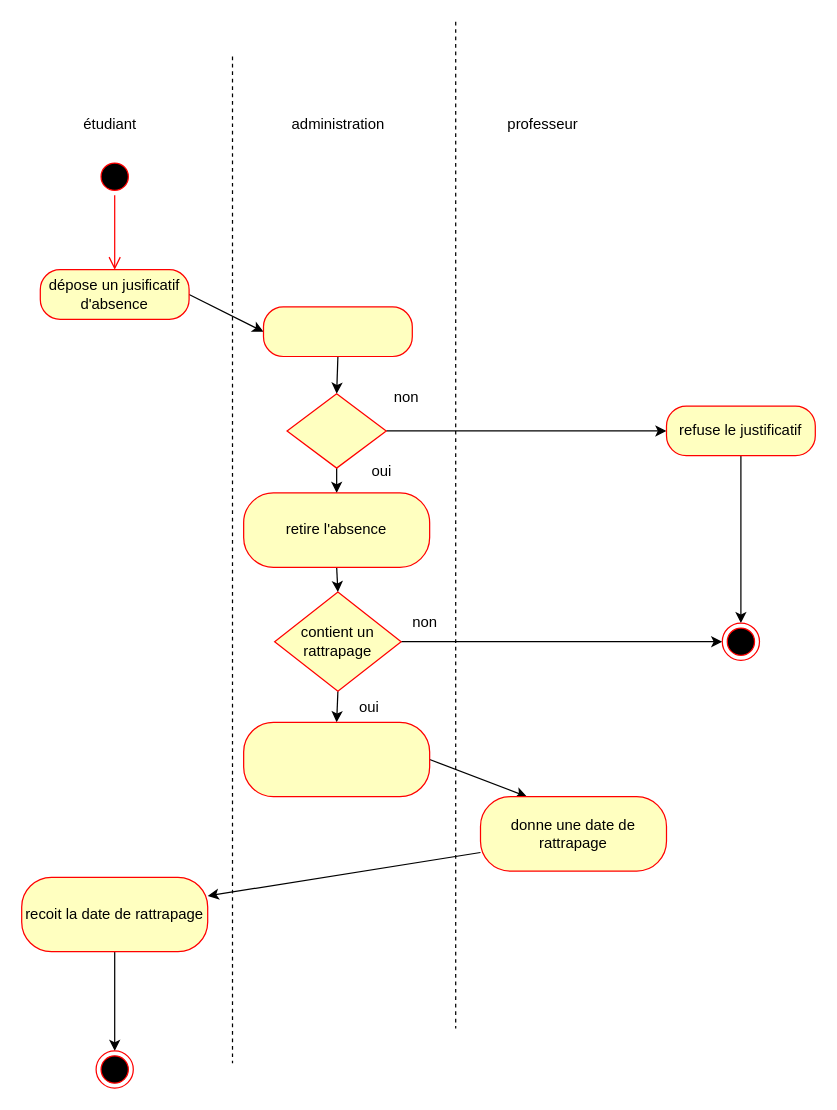
The diagram is 837 pixels wide and 1110 high, and some of its shapes have lost their labels. Here are the shapes that lost their labels. From the top down, the centre of each, then its label:
At [337,331]: "verifie le justificatif".
At [336,430]: "est valide".
At [336,759]: "demande au professeur une nouvelle date de rattrapage".
